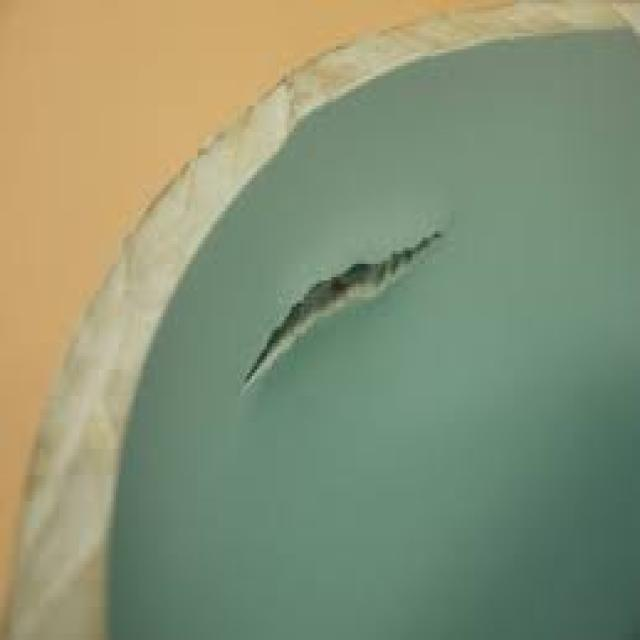crack: (240, 232, 439, 370)
